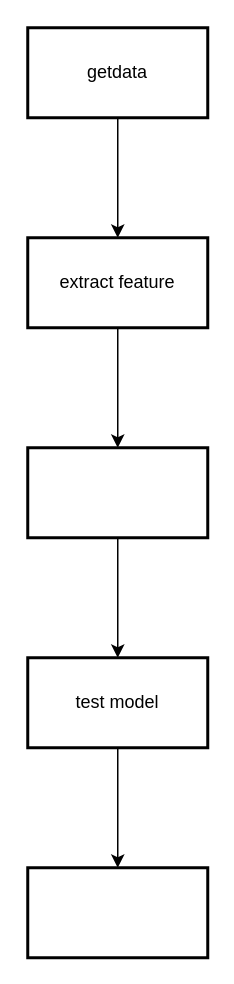
Some shapes in this 234 by 984 pixel diagram are drawn without their labels. Each missing label, with the centre of its shape:
"deploy model" belongs at (117,912).
"train model" belongs at (117,492).
